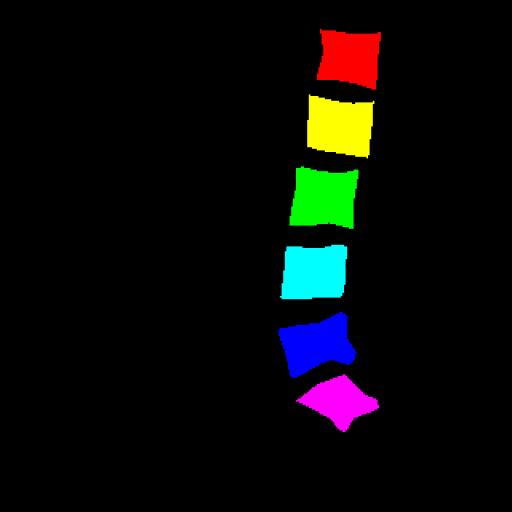L1: (317, 30, 381, 90)
L2: (307, 95, 374, 158)
L3: (290, 166, 358, 229)
L4: (281, 245, 347, 299)
L5: (279, 312, 355, 377)
S1: (297, 375, 379, 432)
